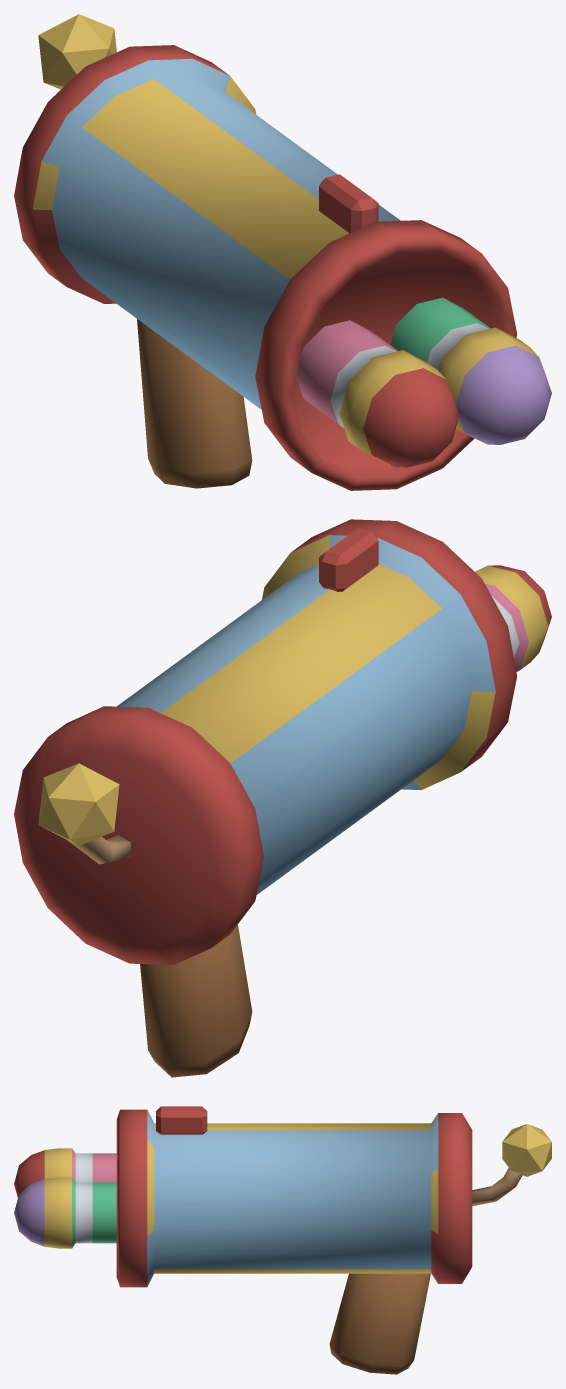
Rendered from pvp_fun_fireworks.fbx.
The picture shows the model from 3 angles, top to bottom: view 1: azimuth 30°, elevation 25°; view 2: azimuth 150°, elevation 25°; view 3: azimuth 270°, elevation 25°; orthographic projection. The views are drawn at different scales.
Visible parts, largest first — view 1: pvp_fun_fireworks; view 2: pvp_fun_fireworks; view 3: pvp_fun_fireworks.
Boxes of the visible parts, bbox=[...] form: pvp_fun_fireworks: bbox=[14, 14, 551, 490]; pvp_fun_fireworks: bbox=[14, 519, 551, 1077]; pvp_fun_fireworks: bbox=[14, 1106, 551, 1374].
Size of the model in its own units: 1.04 by 1.68 by 3.15.
